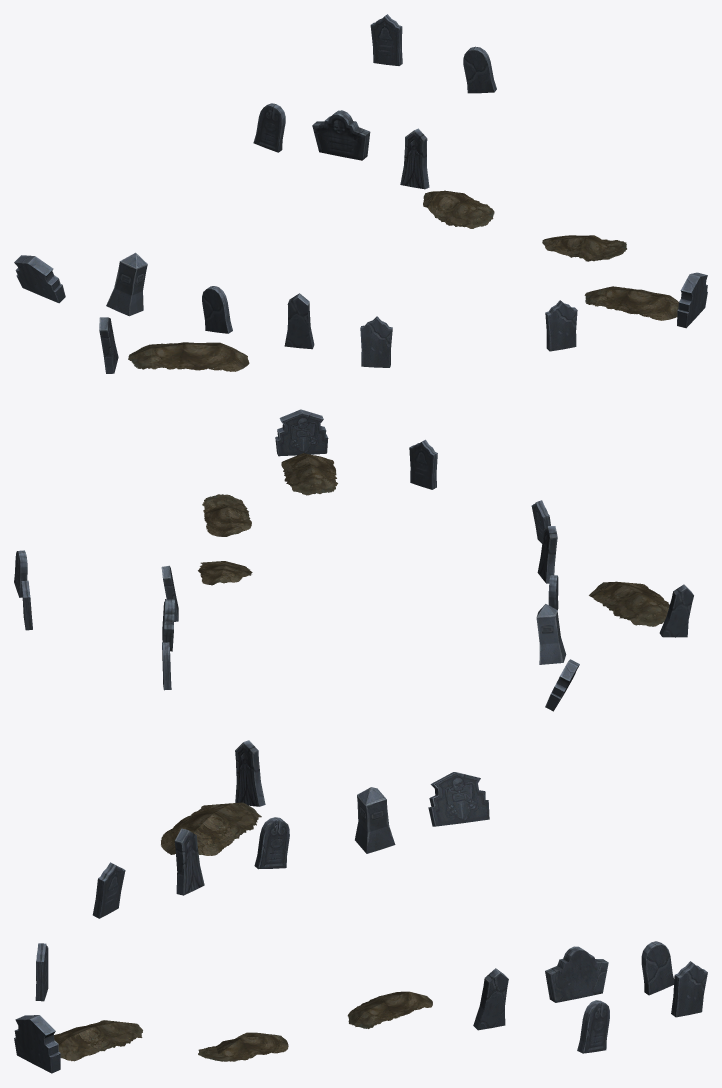
Rendered from object_graves.fbx.
The picture shows the model from 3 angles, top to bottom: view 1: azimuth 30°, elevation 25°; view 2: azimuth 150°, elevation 25°; view 3: azimuth 270°, elevation 25°; orthographic projection. The views are drawn at different scales.
Visible parts, largest first — view 1: obj0.070; view 2: obj0.070; view 3: obj0.070.
Boxes of the visible parts, x1,y1,x2,y2 form: obj0.070: (14,14,707,373); obj0.070: (14,409,693,711); obj0.070: (14,740,707,1073).
Size of the model in its own units: 20.32 by 3.29 by 20.04.
